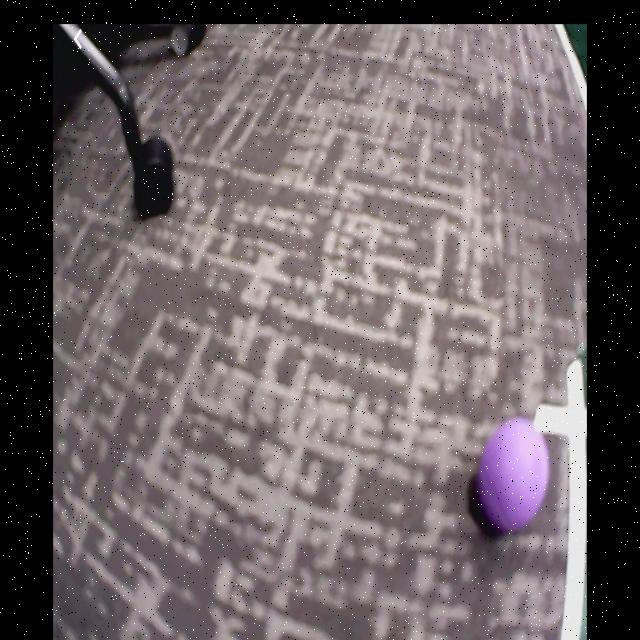ball: (477, 416, 552, 535)
